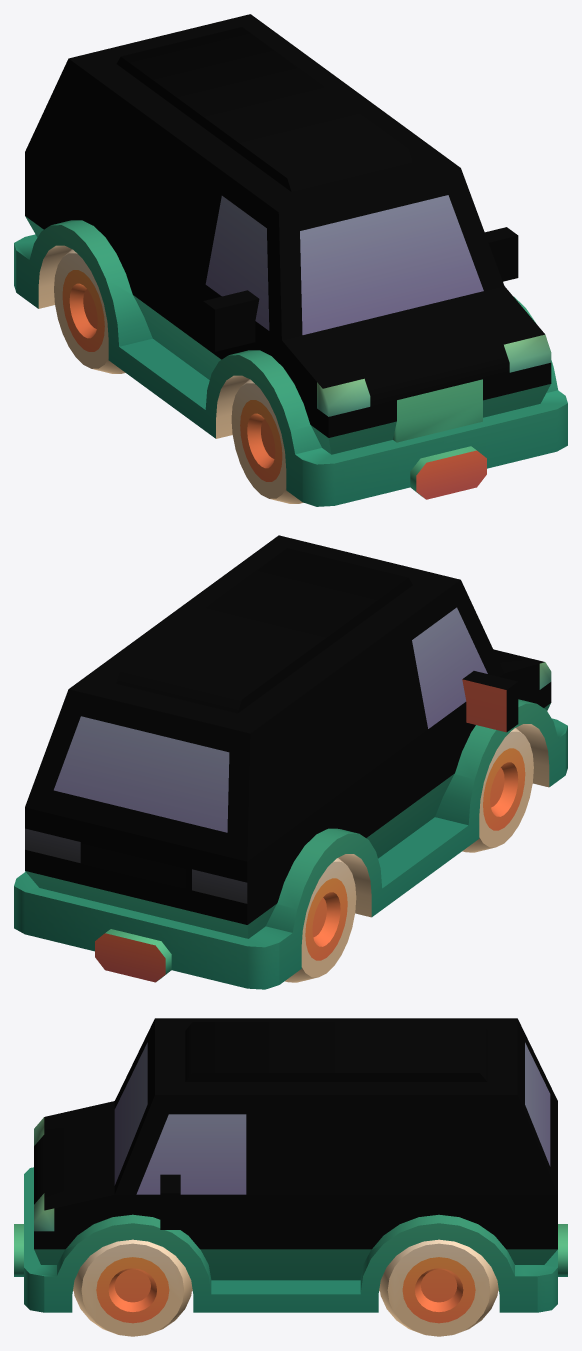
Rendered from van.glb.
3 views of the same model, one above another, from view 1: azimuth 30°, elevation 25°; view 2: azimuth 150°, elevation 25°; view 3: azimuth 270°, elevation 25° (orthographic). The views are drawn at different scales.
Visible parts, largest first — view 1: body, wheel-front-right, wheel-back-right; view 2: body, wheel-back-right, wheel-front-right; view 3: body, wheel-front-left, wheel-back-left.
Boxes of the visible parts, x1,y1,x2,y2 form: body: (14,14,567,506); wheel-front-right: (231,379,303,503); wheel-back-right: (54,249,125,373); body: (14,535,567,989); wheel-back-right: (285,858,356,982); wheel-front-right: (462,728,533,852); body: (14,1018,567,1312); wheel-front-left: (73,1239,192,1336); wheel-back-left: (379,1239,498,1336).
Size of the model in its own units: 1.5 by 1.35 by 2.75.
1 material, 1 textured.
